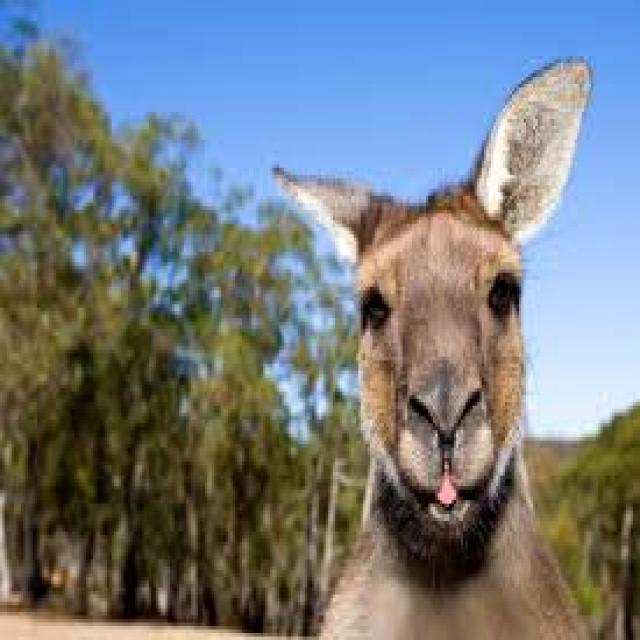kangaroo: (272, 59, 589, 637)
